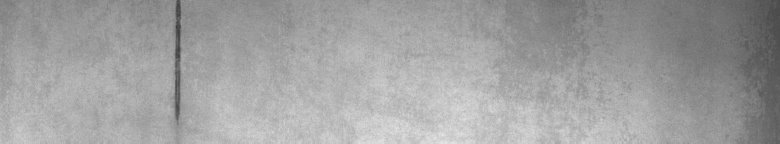hd: (167, 4, 188, 126)
